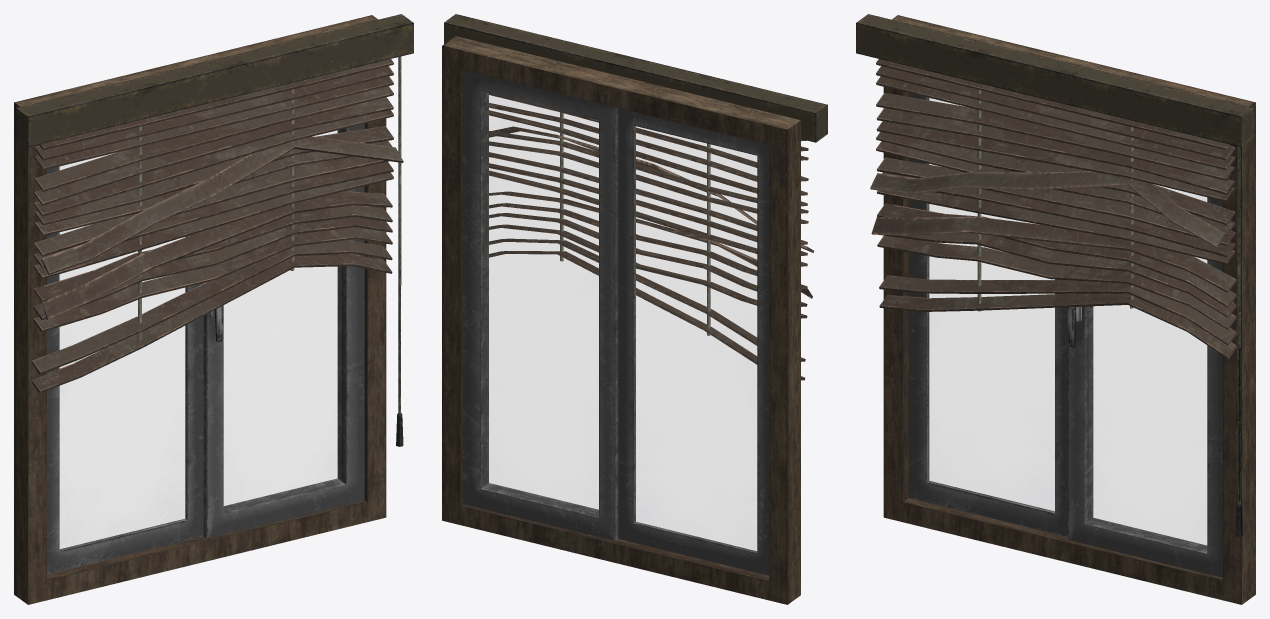
3 renders of one model, left to right at view 1: azimuth 30°, elevation 25°; view 2: azimuth 150°, elevation 25°; view 3: azimuth 330°, elevation 25°, orthographic. The views are drawn at different scales.
Parts seen in each view (by area): view 1: Office_Blinds_2, Office_Window; view 2: Office_Window, Office_Blinds_2; view 3: Office_Blinds_2, Office_Window.
Boxes of the visible parts, bbox=[...] form: Office_Blinds_2: bbox=[16, 14, 413, 446]; Office_Window: bbox=[14, 15, 386, 604]; Office_Window: bbox=[442, 36, 800, 604]; Office_Blinds_2: bbox=[444, 14, 827, 380]; Office_Blinds_2: bbox=[856, 14, 1253, 536]; Office_Window: bbox=[883, 15, 1255, 604].
Size of the model in its own units: 1.33 by 1.66 by 0.2259.
3 materials, 3 textured.
